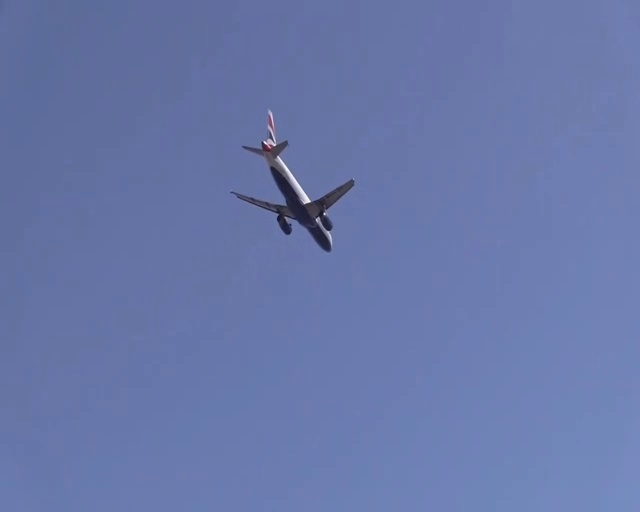AIRPLANE: (230, 106, 354, 252)
